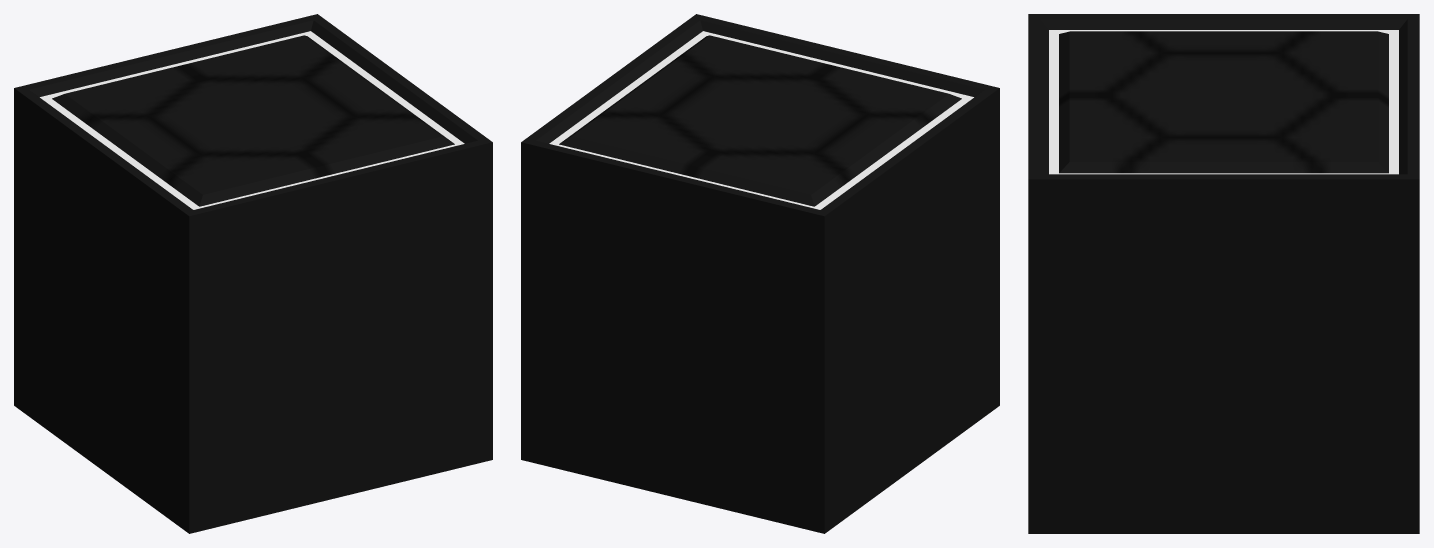
File: Tile 1E1.fbx
3 views of the same model, side by side, from view 1: azimuth 30°, elevation 25°; view 2: azimuth 150°, elevation 25°; view 3: azimuth 270°, elevation 25° (orthographic). The views are drawn at different scales.
Visible parts, largest first — view 1: pCube168; view 2: pCube168; view 3: pCube168.
Boxes of the visible parts, left/top/right/bottom form: pCube168: left=14, top=14, right=492, bottom=533; pCube168: left=521, top=14, right=999, bottom=533; pCube168: left=1028, top=14, right=1419, bottom=533.
Bounding box in the file's own units: 1 × 1 × 1.
